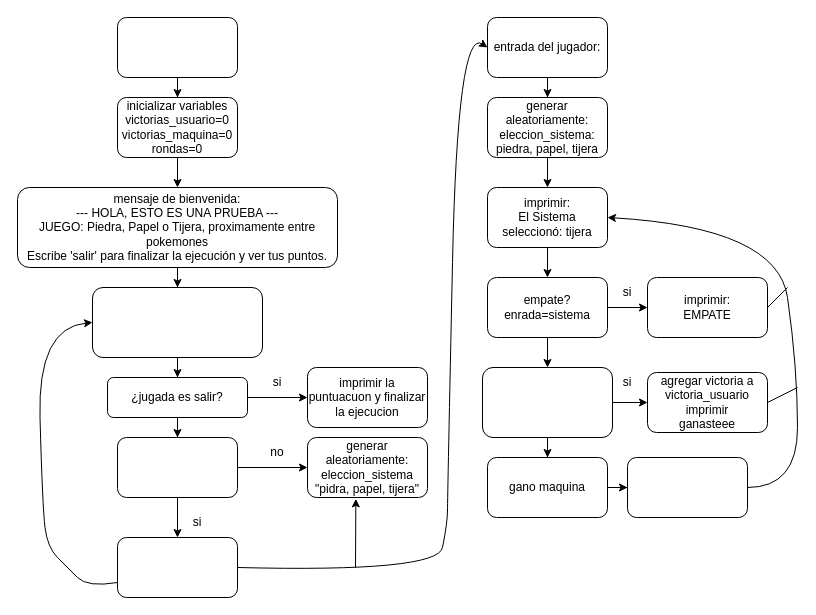
This 816x615 diagram has some shape labels left out. Here are the shapes that lost their labels. From the top down, the box of each, then its label:
(116, 16, 238, 78): inicio piedra, papel, tijera
(92, 286, 262, 358): entrada del jugador selecciona entre: (piedra, papel, tijera) o salir
(482, 366, 612, 438): el jugador gano? piedra gana a tijera papel gana piedra tijera gana papel
(116, 436, 238, 498): la entrada es invalida? (no esta en piedra, papel. tijera)
(626, 456, 748, 518): agregar victoria a victoria_maquina imprimir te gano una maquina
(116, 536, 238, 598): imprimir mensaje de error
